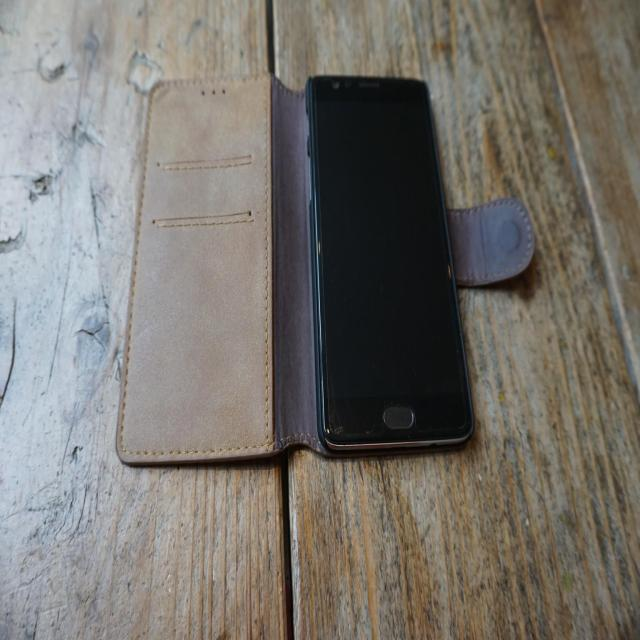Phone: (305, 74, 474, 456)
